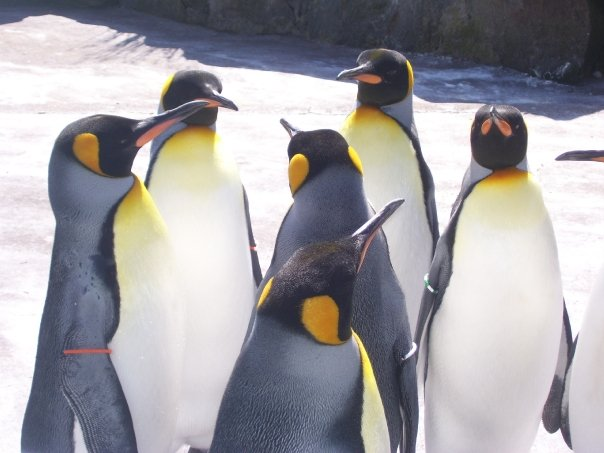penguin: (47, 93, 241, 453), (419, 100, 580, 447), (237, 196, 413, 453)
